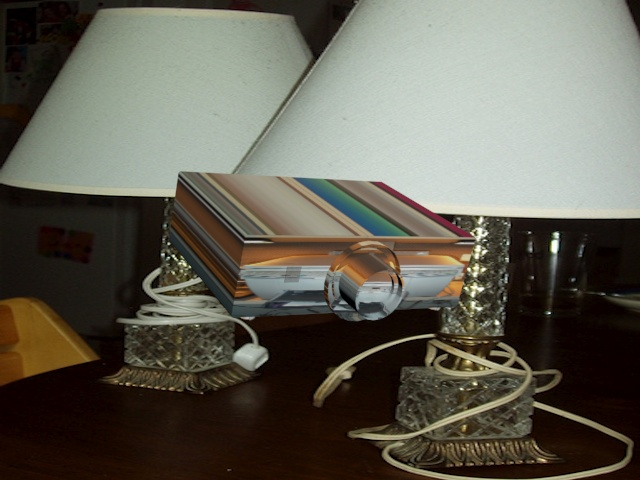projector: (160, 160, 481, 328)
